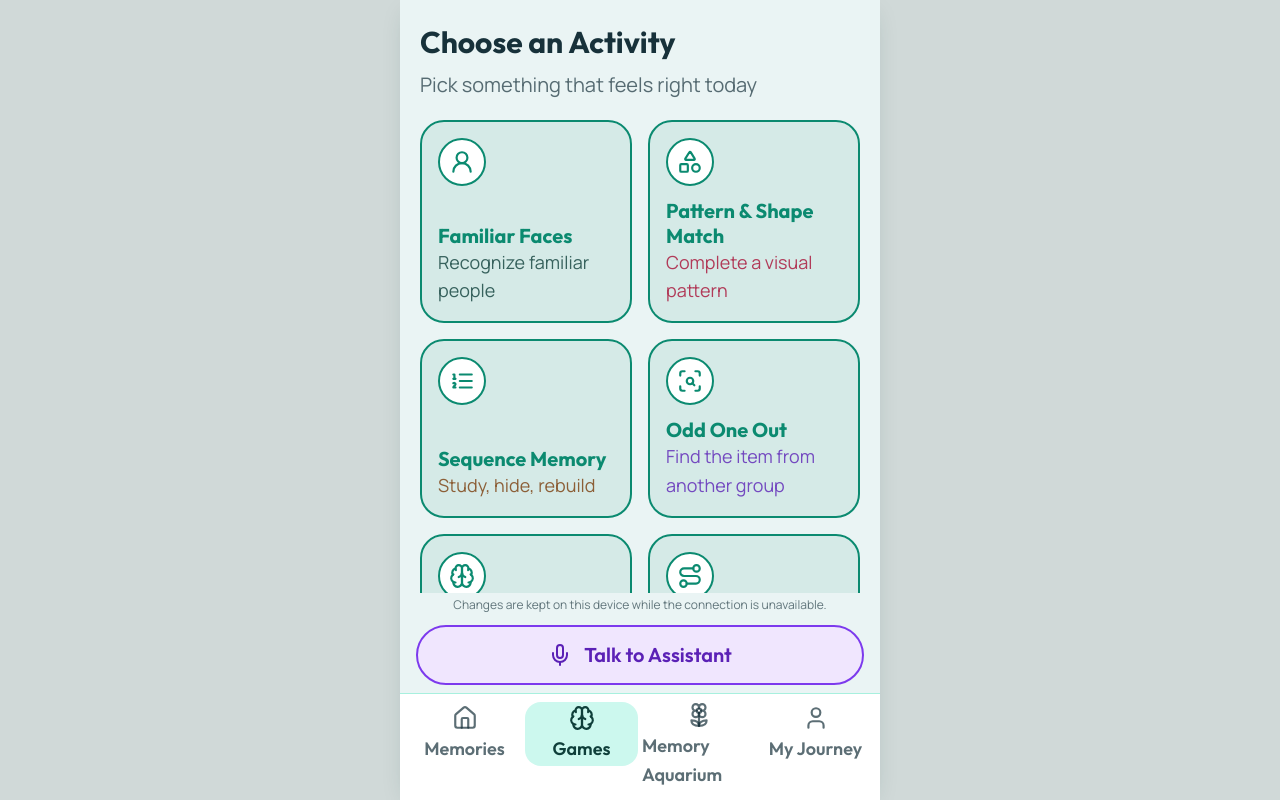
Scenario: App shell + assistant toolbar › opens the panel, greets by name, and replies to a typed message
This screenshot has width=1280, height=800.
Click the button "Talk to Assistant": (640, 655) x1=416 y1=625 x2=864 y2=685
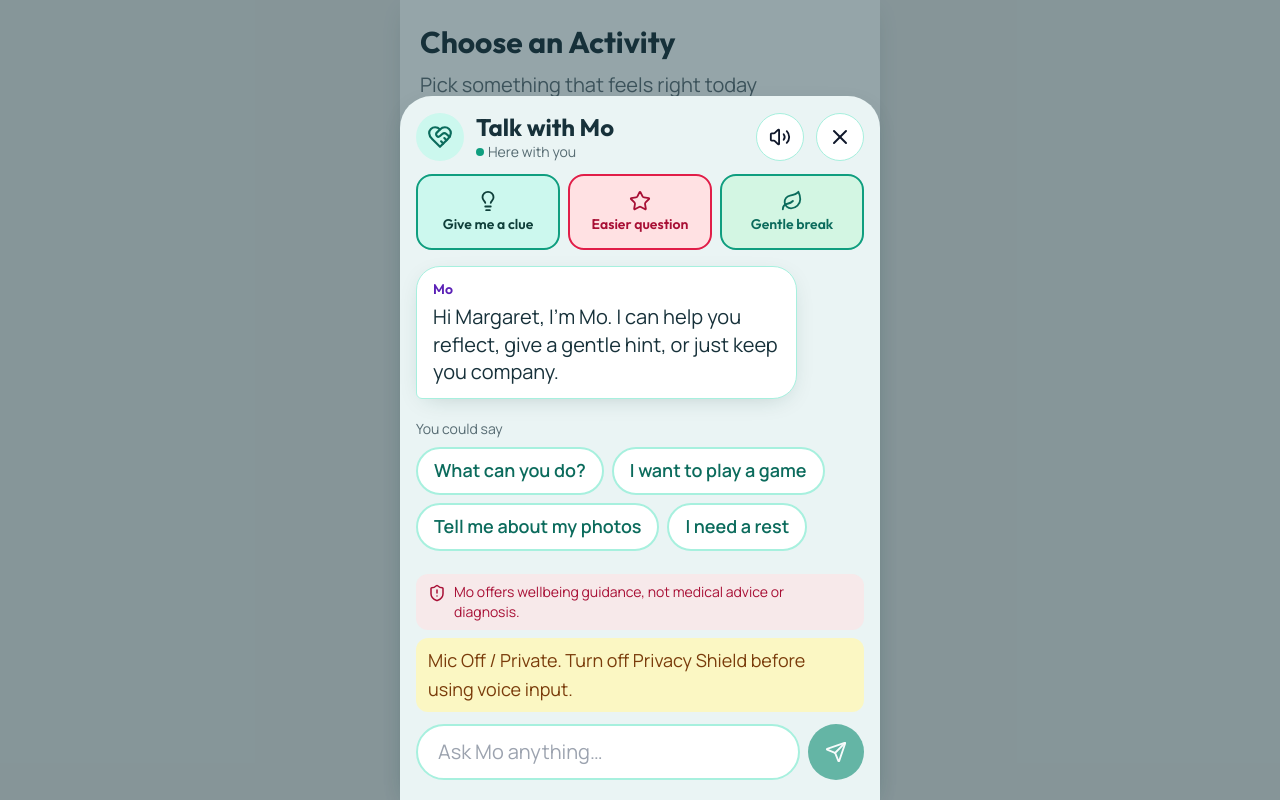
Expected: the dialog named "Assistant" is shown
Expected: the text "Hi Margaret, I'm Mo" is shown, x1=433 y1=303 x2=778 y2=385
In the field named "Message to Mo": (608, 752) x1=416 y1=724 x2=800 y2=780, type "I want to play a game"
Then press Enter
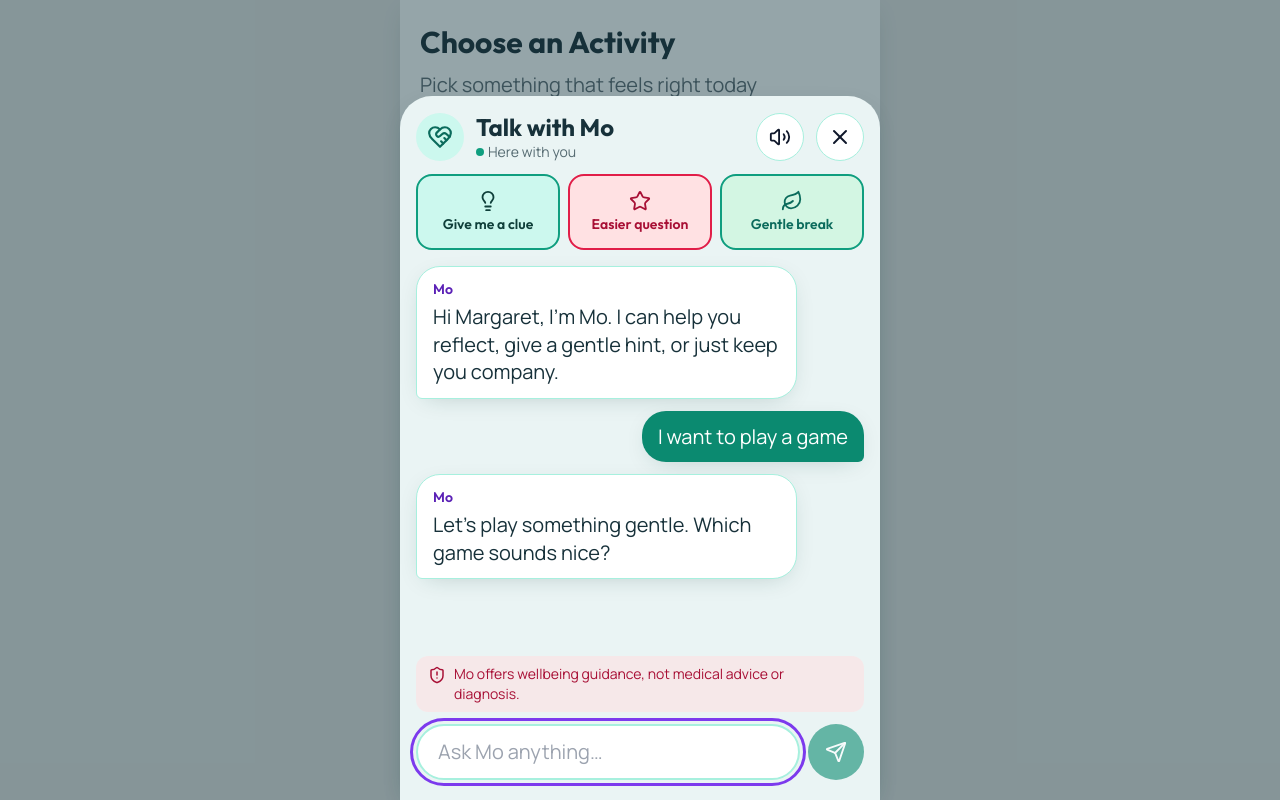
Expected: the text "Mo Let's play something gentle. Which game sounds nice?" is shown, x1=416 y1=474 x2=797 y2=579
